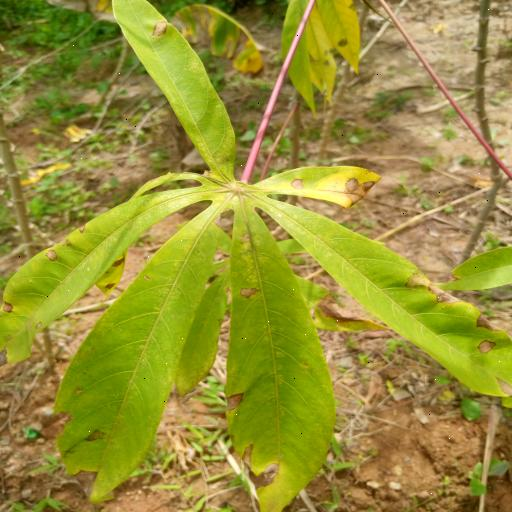Cassava_Brown_Leaf_Spot: (3, 0, 511, 507)
